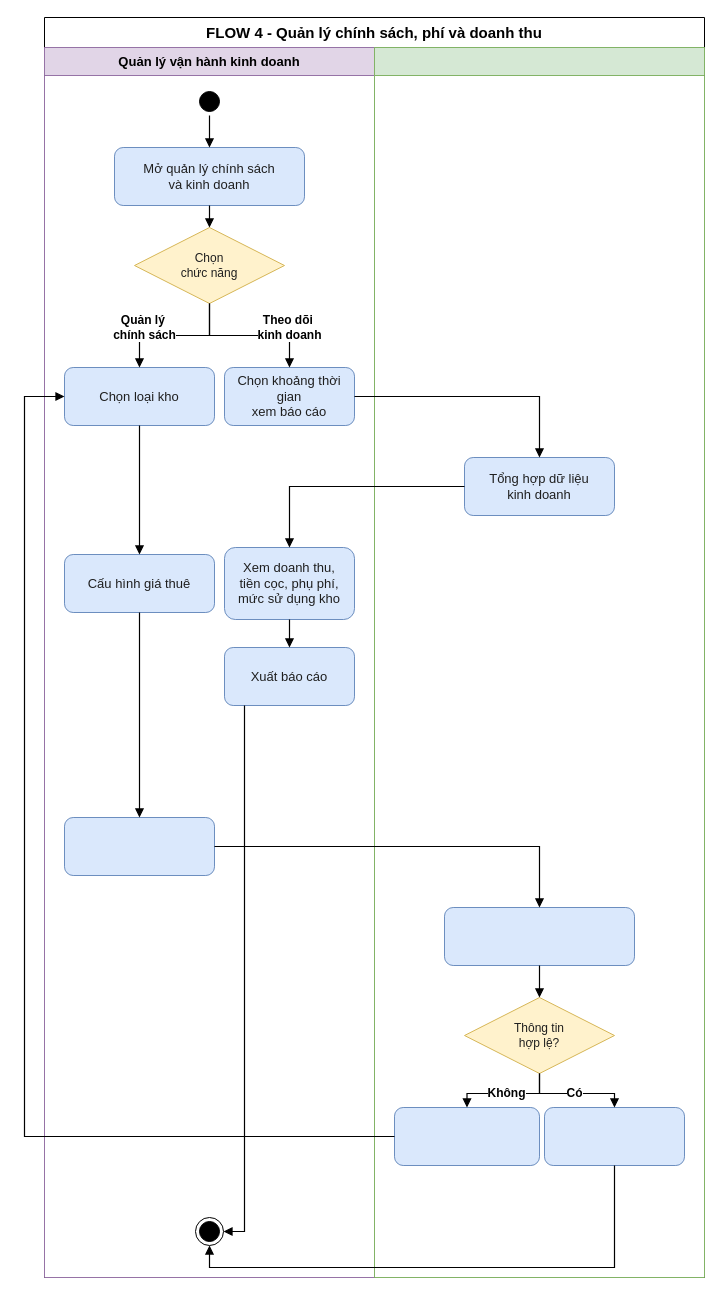
Image size: 723x1295. Some labels were removed from this diagram. The shapes that lost their labels are listed below. From the top down, each one's box as (x1, y1, x2, y2) in pixels, then its label:
(374, 46, 704, 1278): Hệ thống
(64, 816, 214, 876): Cấu hình các loại phụ phí, nếu có
(444, 906, 634, 966): Kiểm tra dữ liệu chính sách
(394, 1106, 540, 1166): Thông báo dữ liệu không hợp lệ
(544, 1106, 684, 1166): Lưu chính sách
